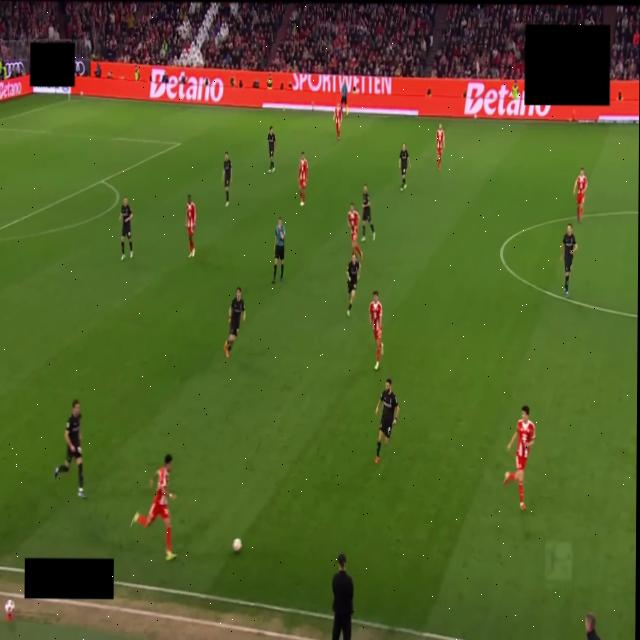ball: (233, 538, 241, 553)
player: (131, 455, 176, 560), (504, 406, 535, 510), (54, 401, 84, 497), (376, 379, 399, 464), (224, 288, 245, 358), (560, 224, 577, 298), (369, 291, 382, 370), (347, 203, 362, 262), (119, 197, 132, 260), (347, 254, 360, 316), (361, 185, 374, 242), (574, 167, 587, 222), (186, 195, 195, 257), (400, 143, 411, 191), (298, 152, 307, 206), (224, 153, 232, 206), (436, 124, 445, 170), (267, 126, 275, 172), (333, 104, 342, 140)
referee: (273, 218, 285, 283)
